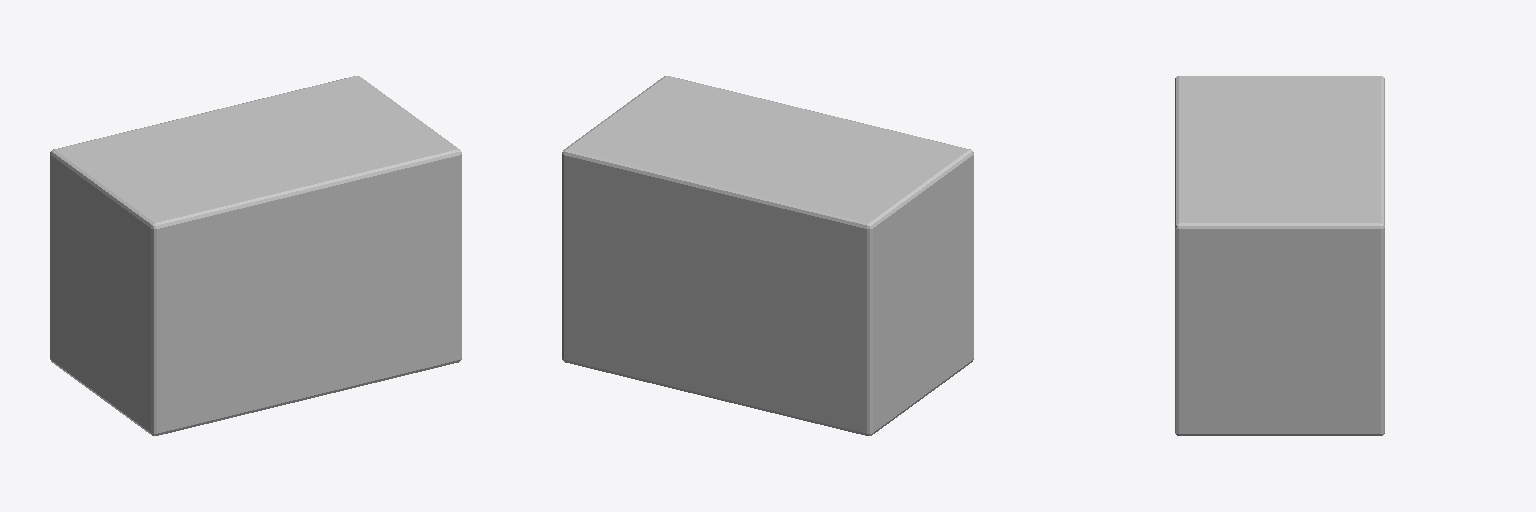
The model's file is BoxS.obj.
3 views of the same model, side by side, from view 1: azimuth 30°, elevation 25°; view 2: azimuth 150°, elevation 25°; view 3: azimuth 270°, elevation 25° (orthographic).
Parts seen in each view (by area): view 1: 290x170x190_3; view 2: 290x170x190_3; view 3: 290x170x190_3.
Boxes of the visible parts, x1=… form: 290x170x190_3: x1=50, y1=76, x2=461, y2=435; 290x170x190_3: x1=562, y1=76, x2=973, y2=435; 290x170x190_3: x1=1175, y1=76, x2=1384, y2=435.
Bounding box in the file's own units: 29 × 19 × 17.